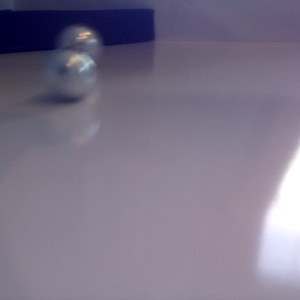zone: (1, 7, 155, 55)
